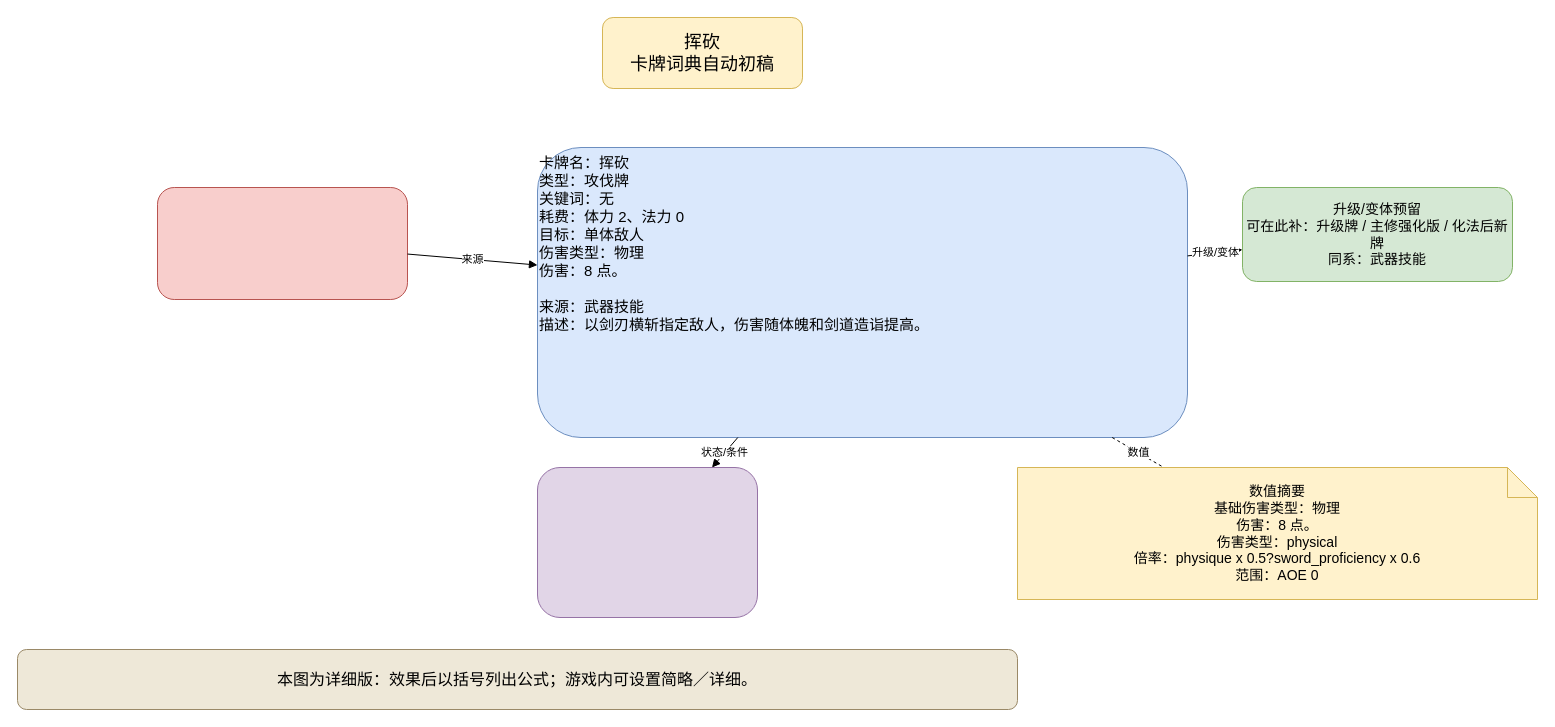
The diagram is 1555 pixels wide and 727 high, and some of its shapes have lost their labels. Here are the shapes that lost their labels. From the top down, the box of each, then its label:
(156, 186, 408, 300): 来源/前置 来源分类：武器技能 来源秘籍：无 可在此补：前置牌 / 被替换牌 / 基础牌来源
(536, 466, 758, 618): 状态/关键词/条件 关键词：无 状态：无 功法条件：NONE 流转：无 乘势：无 应对：无
